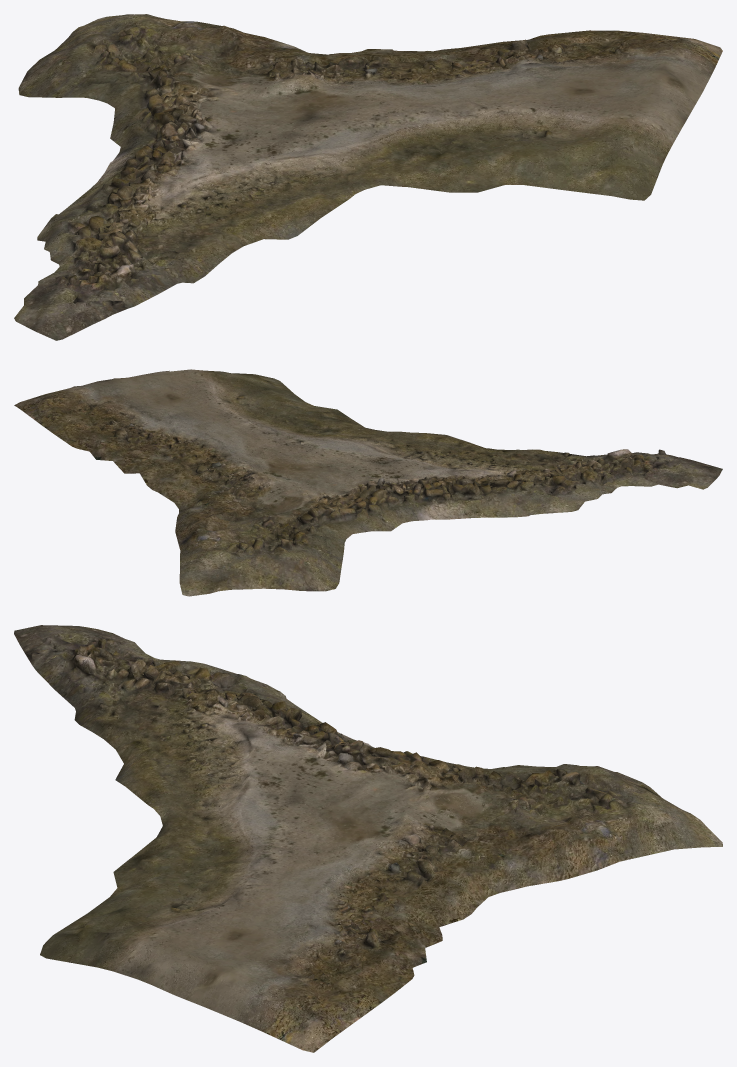
The model's file is coast-rocks.glb.
3 renders of one model, top to bottom at view 1: azimuth 30°, elevation 25°; view 2: azimuth 150°, elevation 25°; view 3: azimuth 270°, elevation 25°, orthographic. The views are drawn at different scales.
Parts seen in each view (by area): view 1: coast_rocks_01; view 2: coast_rocks_01; view 3: coast_rocks_01.
Part boxes in pixels (box(x1,y1,x2,y2)): coast_rocks_01: box(14, 14, 722, 340); coast_rocks_01: box(14, 369, 722, 596); coast_rocks_01: box(14, 625, 722, 1052).
Bounding box in the file's own units: 59.51 × 3.29 × 42.51.
1 material, 1 textured.
